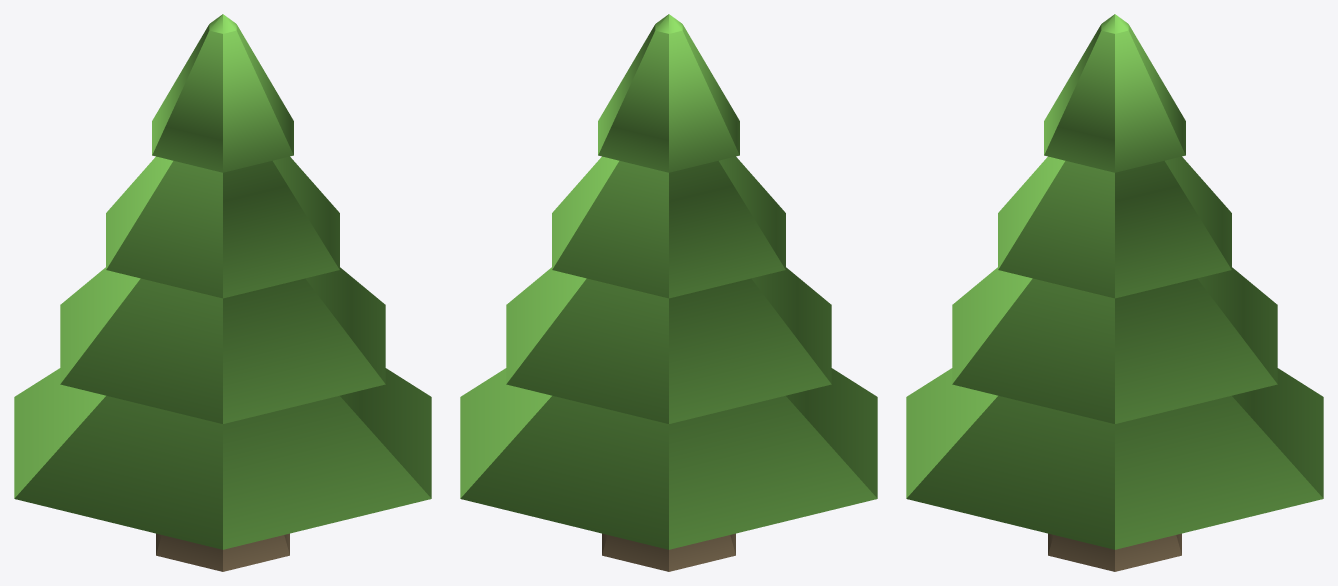
The model's file is abetos.fbx.
The picture shows the model from 3 angles, left to right: view 1: azimuth 30°, elevation 25°; view 2: azimuth 150°, elevation 25°; view 3: azimuth 270°, elevation 25°; orthographic projection.
Visible parts, largest first — view 1: Spindle001; view 2: Spindle001; view 3: Spindle001.
Boxes of the visible parts, <box> form: Spindle001: <box>14,14,431,571</box>; Spindle001: <box>460,14,877,571</box>; Spindle001: <box>906,14,1323,571</box>.
Size of the model in its own units: 88.41 by 106 by 76.57.
